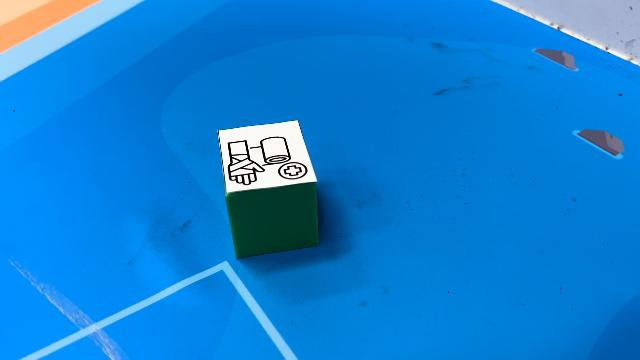bandage: (215, 119, 321, 260)
